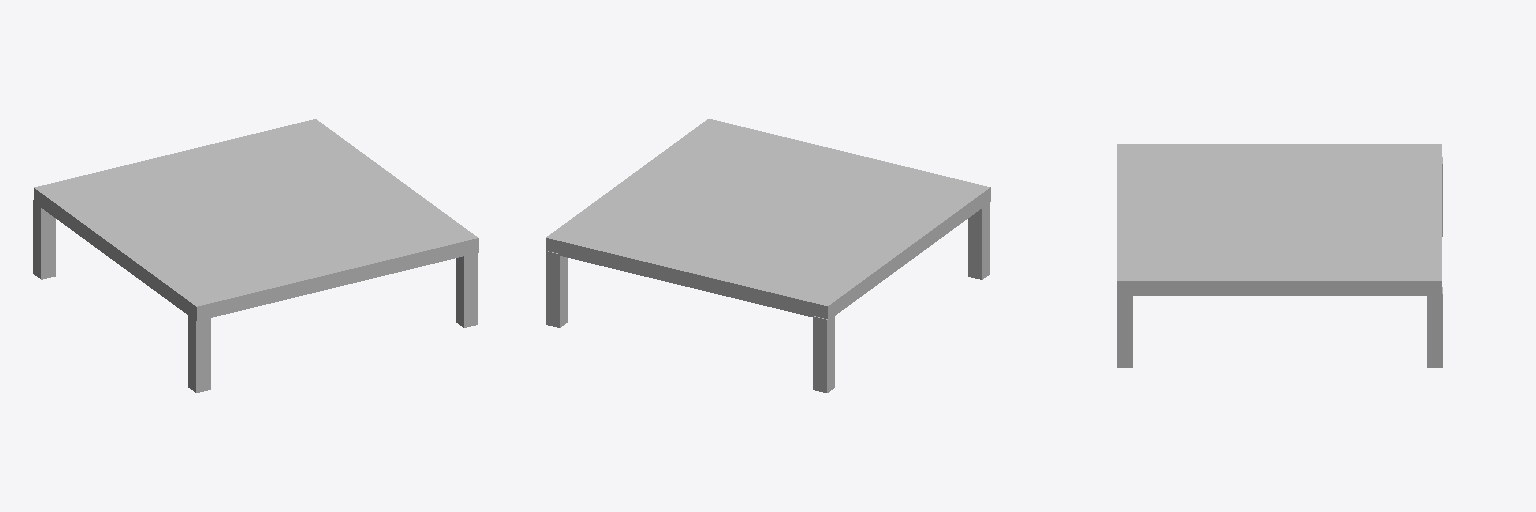
File: table.obj
3 renders of one model, left to right at view 1: azimuth 30°, elevation 25°; view 2: azimuth 150°, elevation 25°; view 3: azimuth 270°, elevation 25°, orthographic.
Visible parts, largest first — view 1: Cube, Cube.004, Cube.001, Cube.003; view 2: Cube, Cube.003, Cube.002, Cube.004; view 3: Cube, Cube.002, Cube.001.
Boxes of the visible parts, <box> form: Cube: <box>34,119,478,320</box>; Cube.004: <box>188,316,210,392</box>; Cube.001: <box>456,251,477,327</box>; Cube.003: <box>33,200,55,279</box>; Cube: <box>546,119,990,320</box>; Cube.003: <box>813,316,834,392</box>; Cube.002: <box>546,251,567,327</box>; Cube.004: <box>968,203,989,279</box>; Cube: <box>1117,144,1441,295</box>; Cube.002: <box>1427,287,1442,367</box>; Cube.001: <box>1117,296,1132,367</box>.
Size of the model in its own units: 8 by 2.35 by 8.03.